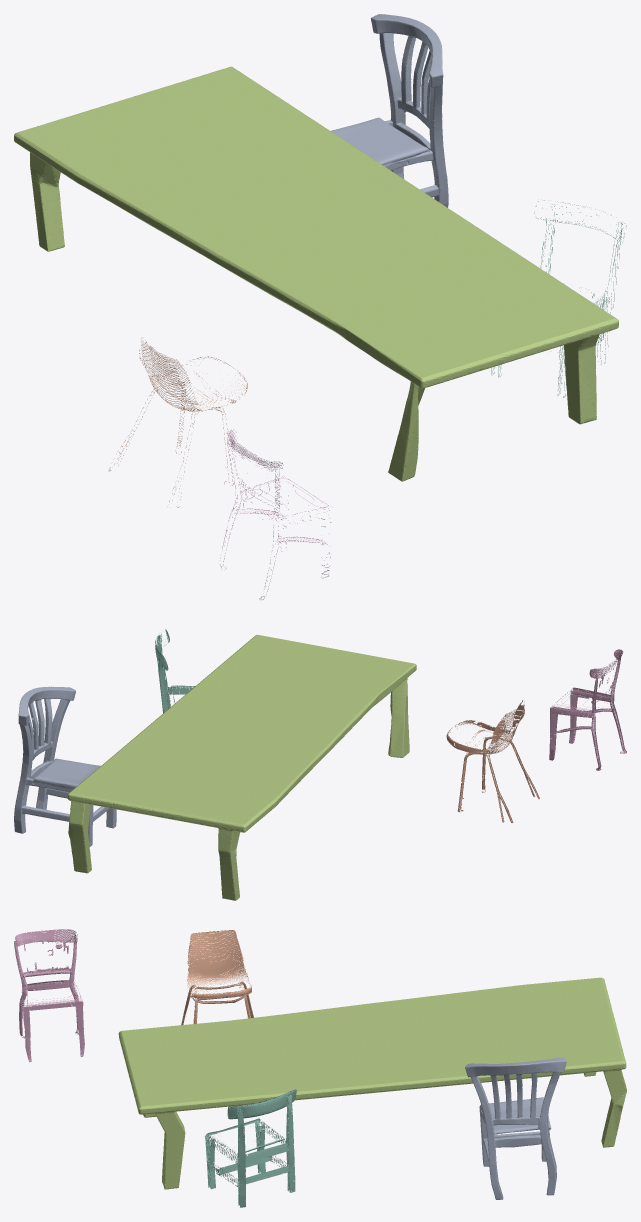
The model's file is ours_draco.glb.
3 views of the same model, one above another, from view 1: azimuth 30°, elevation 25°; view 2: azimuth 150°, elevation 25°; view 3: azimuth 270°, elevation 25° (orthographic). The views are drawn at different scales.
Parts seen in each view (by area): view 1: target_4_0, target_2_0, target_1_0, target_3_0, target_0_0; view 2: target_4_0, target_2_0, target_3_0, target_1_0, target_0_0; view 3: target_4_0, target_2_0, target_0_0, target_1_0, target_3_0.
Part boxes in pixels (<box>): target_4_0: <box>14,66,618,481</box>; target_2_0: <box>331,14,448,207</box>; target_1_0: <box>108,337,247,507</box>; target_3_0: <box>220,429,331,600</box>; target_0_0: <box>491,200,626,397</box>; target_4_0: <box>67,634,416,900</box>; target_2_0: <box>14,686,116,846</box>; target_3_0: <box>549,649,626,770</box>; target_1_0: <box>446,700,539,823</box>; target_0_0: <box>155,629,195,713</box>; target_4_0: <box>118,977,626,1189</box>; target_2_0: <box>465,1057,566,1199</box>; target_0_0: <box>204,1089,296,1207</box>; target_1_0: <box>181,930,253,1025</box>; target_3_0: <box>14,929,84,1062</box>.
Bounding box in the file's own units: 0.7664 × 0.298 × 1.07.
